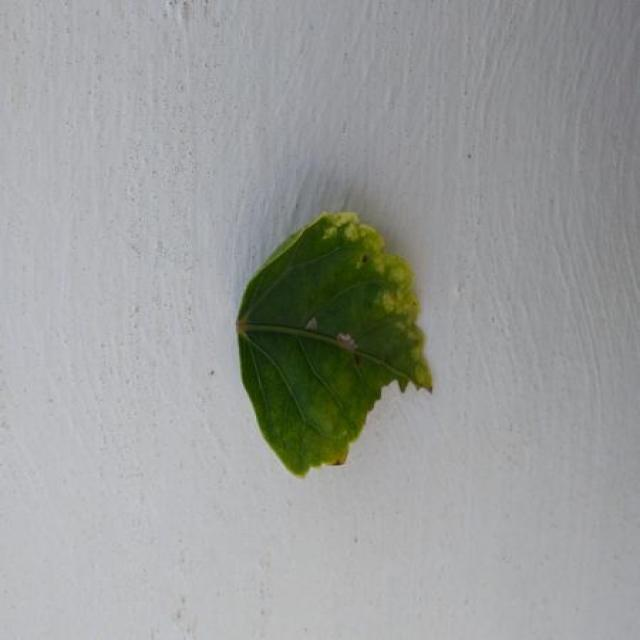Hibiscus: (237, 212, 432, 476)
wilt: (237, 212, 432, 476)
